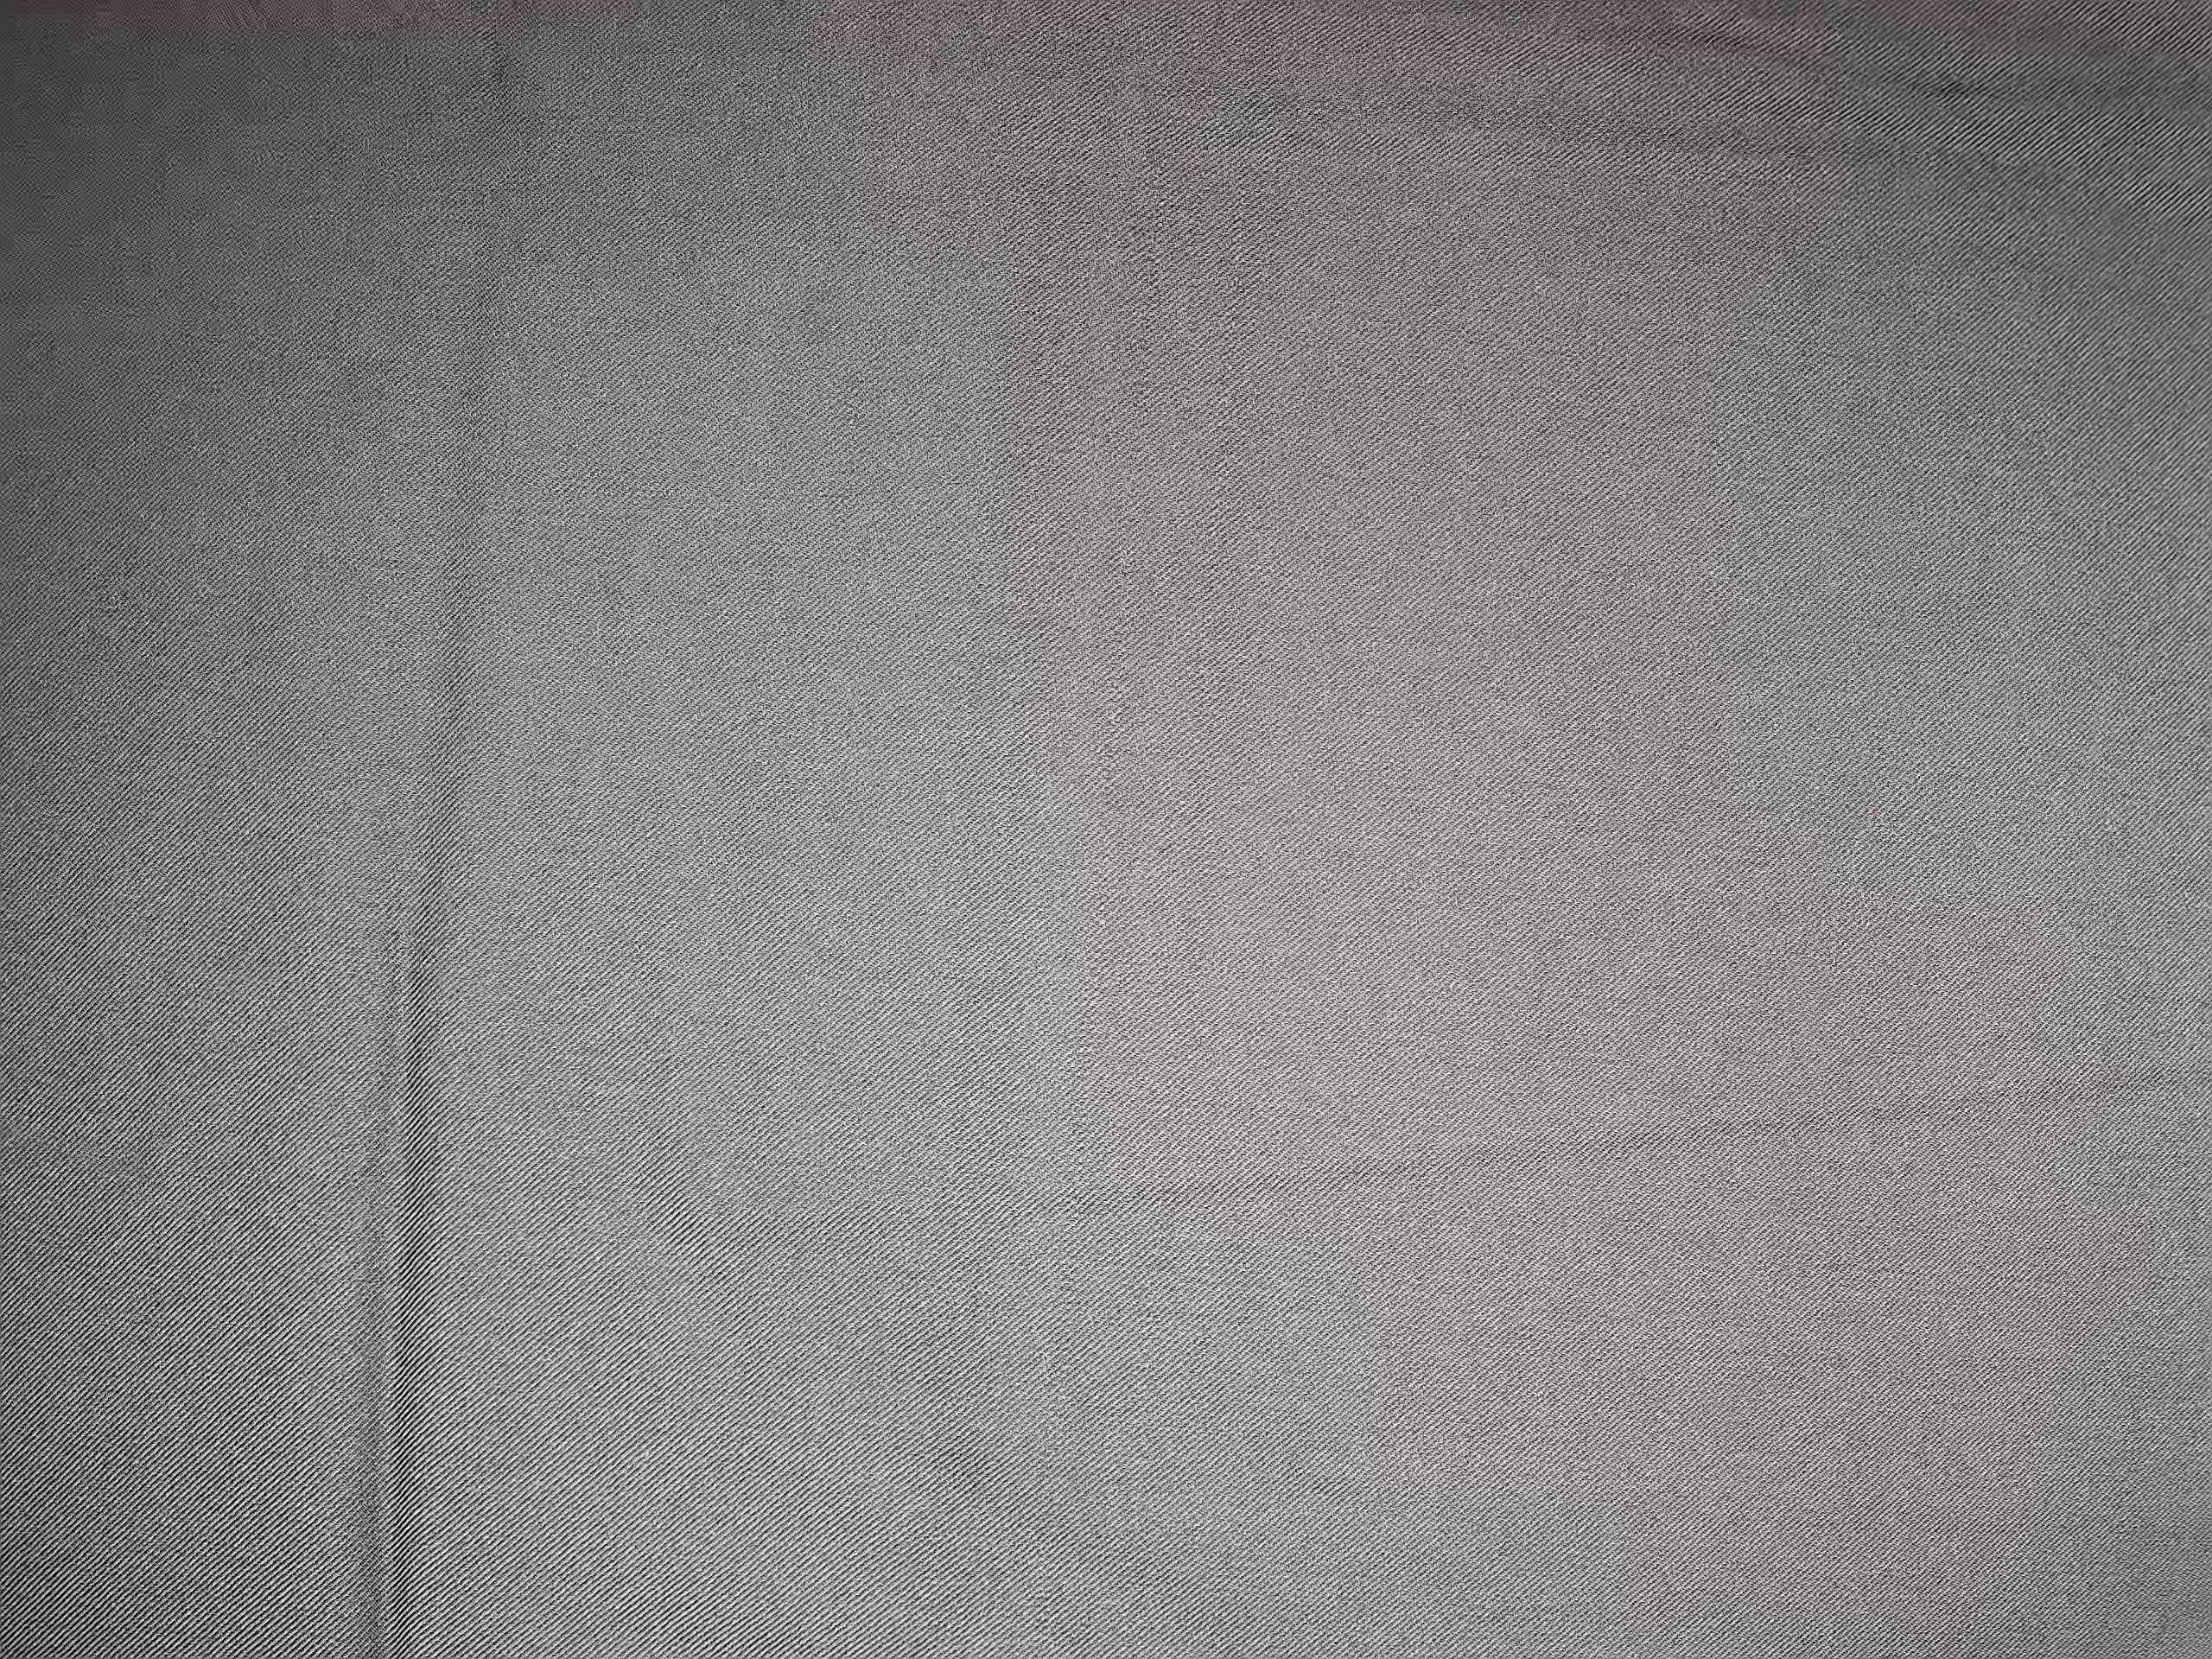hanging-warp: (1064, 129, 1167, 1180)
